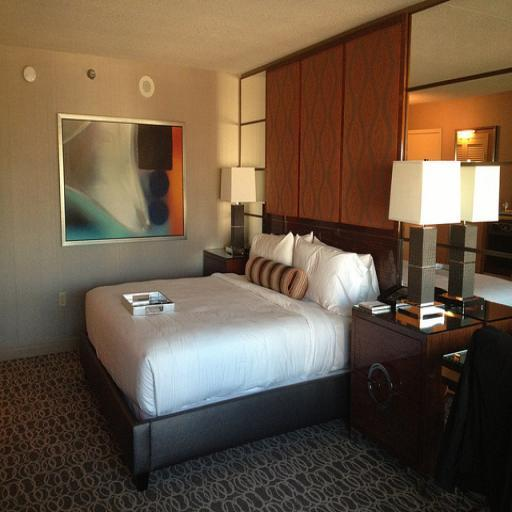bed: (66, 208, 448, 492)
